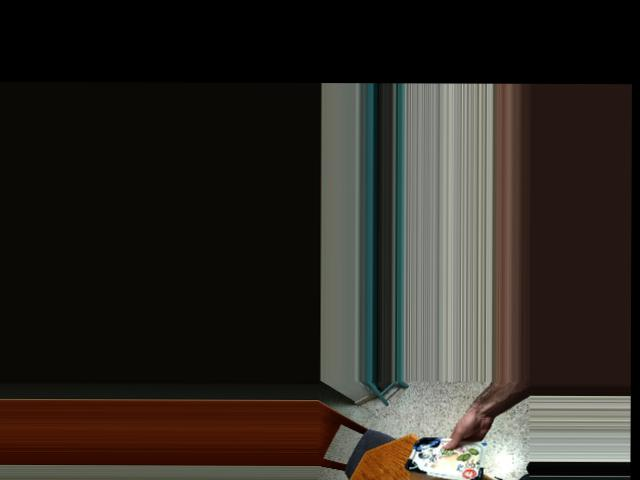cheese: (409, 429, 483, 480)
